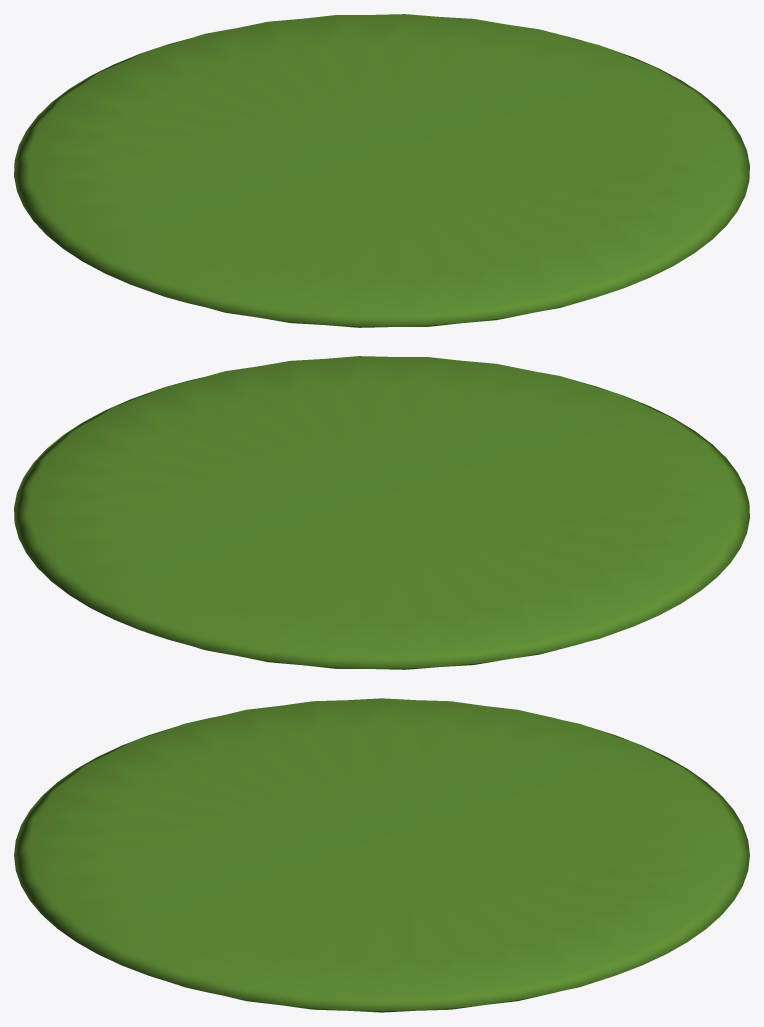
File: carpet.obj
3 renders of one model, top to bottom at view 1: azimuth 30°, elevation 25°; view 2: azimuth 150°, elevation 25°; view 3: azimuth 270°, elevation 25°, orthographic.
Visible parts, largest first — view 1: Circle.001; view 2: Circle.001; view 3: Circle.001.
Boxes of the visible parts, left/top/right/bottom form: Circle.001: left=14, top=14, right=749, bottom=327; Circle.001: left=14, top=356, right=749, bottom=669; Circle.001: left=14, top=698, right=749, bottom=1012.
Size of the model in its own units: 2.38 by 0.1067 by 2.38.
